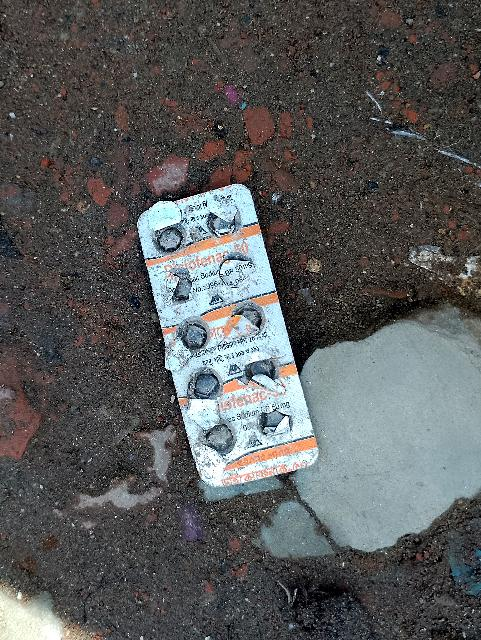medicine: (119, 175, 325, 499)
